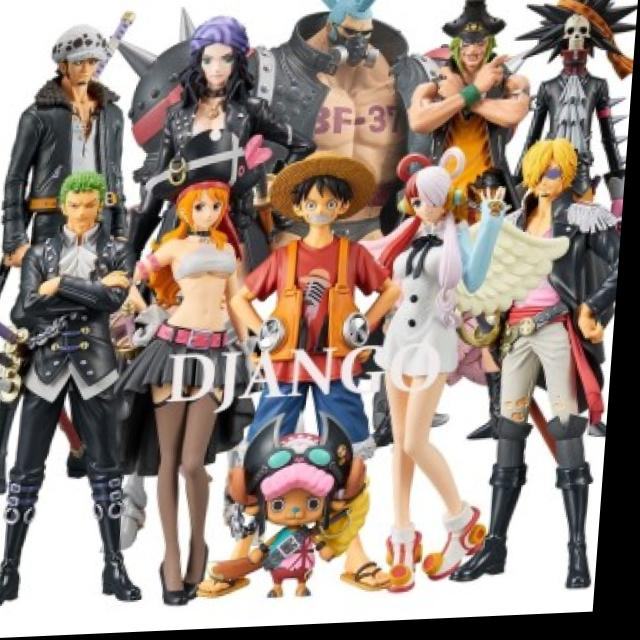Blook: (514, 0, 632, 95)
Chyopa: (217, 389, 391, 621)
Franky: (298, 0, 388, 106)
Luffy: (278, 152, 386, 239)
Nami: (166, 183, 247, 256)
Sangdi: (499, 141, 590, 238)
Zoro: (44, 160, 126, 260)
